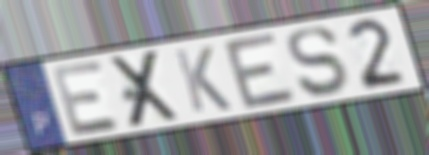2: (345, 16, 413, 94)
E: (219, 29, 301, 113), (48, 57, 124, 139)
K: (171, 44, 235, 115)
S: (284, 24, 351, 101)
X: (107, 47, 185, 132)
